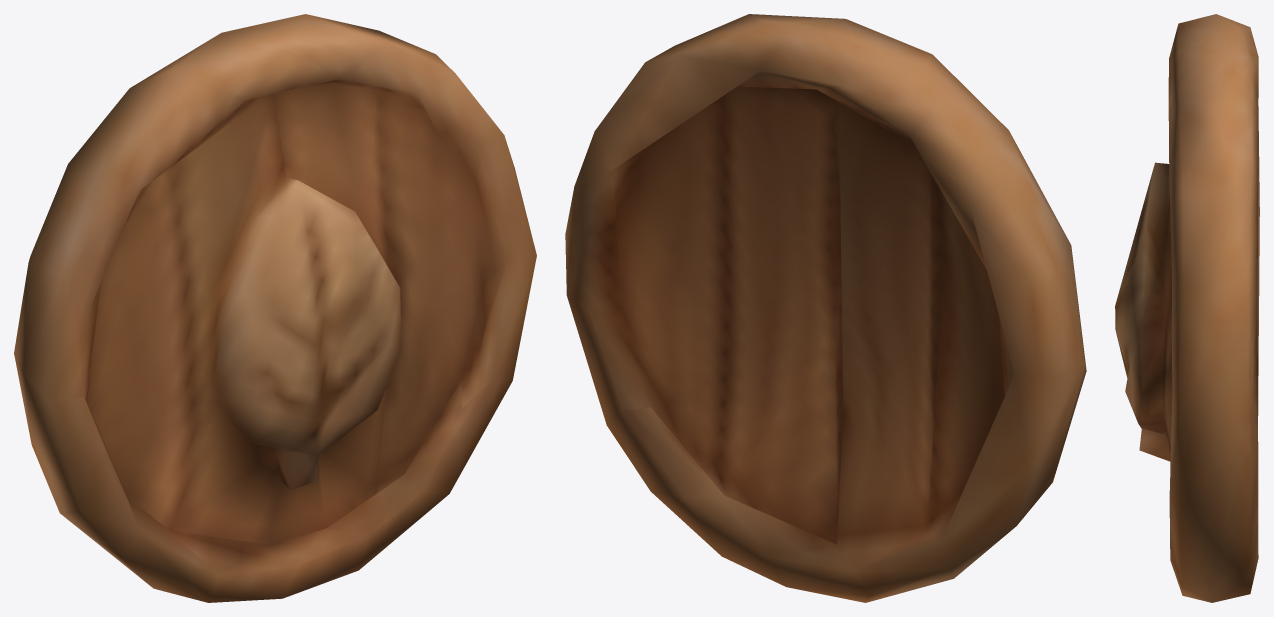
Rendered from Shield_lod.glb.
3 renders of one model, left to right at view 1: azimuth 30°, elevation 25°; view 2: azimuth 150°, elevation 25°; view 3: azimuth 270°, elevation 25°, orthographic. The views are drawn at different scales.
Parts seen in each view (by area): view 1: Shield; view 2: Shield; view 3: Shield.
Boxes of the visible parts, bbox=[...] form: Shield: bbox=[14, 14, 536, 602]; Shield: bbox=[565, 14, 1086, 602]; Shield: bbox=[1115, 14, 1259, 602].
Bounding box in the file's own units: 0.9384 × 0.9858 × 0.2448.
Materials: 1 (1 with a texture image).
